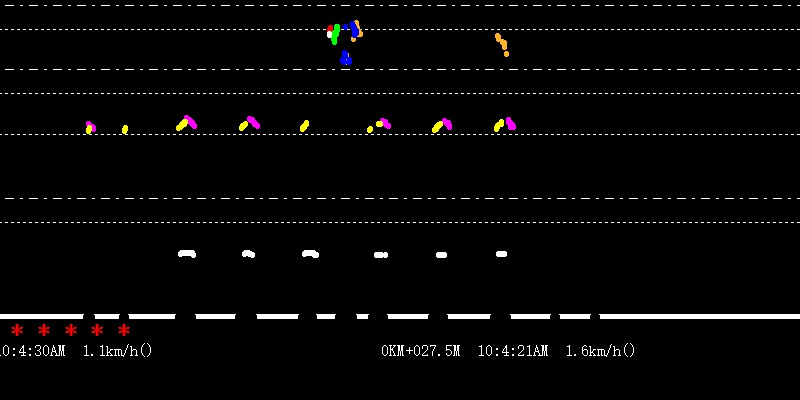J: (326, 1, 364, 66)
face_down: (494, 25, 509, 50)
star: (35, 320, 51, 339), (63, 321, 80, 338), (116, 321, 132, 339), (89, 322, 104, 340), (10, 322, 24, 340)
y_p: (160, 109, 517, 268)
